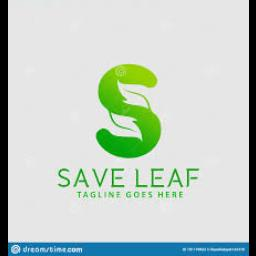f: (182, 166, 210, 192)
s: (89, 63, 171, 163), (56, 162, 72, 194)
v: (90, 166, 110, 190)
